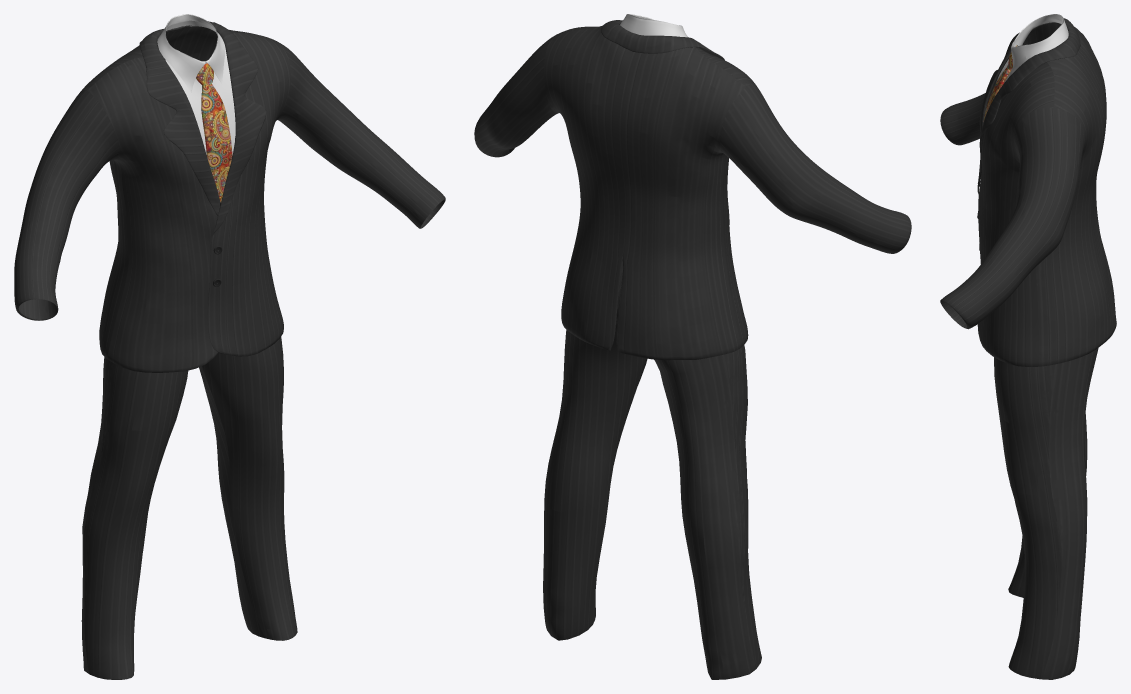
File: toigo-male-suit-tie-and-jacket.glb
The picture shows the model from 3 angles, left to right: view 1: azimuth 30°, elevation 25°; view 2: azimuth 150°, elevation 25°; view 3: azimuth 270°, elevation 25°; orthographic projection. The views are drawn at different scales.
Parts seen in each view (by area): view 1: male suit tie and jacket; view 2: male suit tie and jacket; view 3: male suit tie and jacket.
Boxes of the visible parts, left/top/right/bottom form: male suit tie and jacket: left=14, top=14, right=445, bottom=679; male suit tie and jacket: left=474, top=14, right=911, bottom=679; male suit tie and jacket: left=940, top=14, right=1116, bottom=679.
Bounding box in the file's own units: 106 × 149 × 38.94.
1 material, 1 textured.
